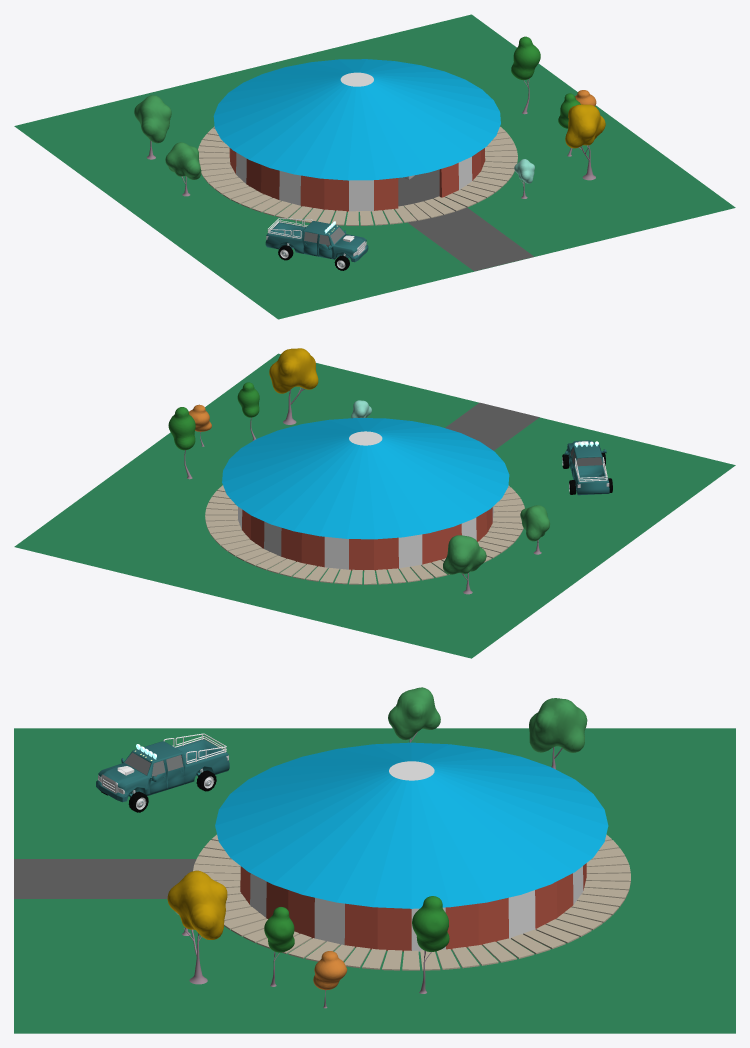
The model's file is kitchen.fbx_Scene.fbx.
The picture shows the model from 3 angles, top to bottom: view 1: azimuth 30°, elevation 25°; view 2: azimuth 150°, elevation 25°; view 3: azimuth 270°, elevation 25°; orthographic projection. The views are drawn at different scales.
Parts seen in each view (by area): view 1: ground, room, Plane_round, Plane.001, car, Wood_1_43.001, Wood_1_243, room_floor, Wood_1_243.001, tree01.001; view 2: ground, room, Plane_round, Plane.001, car, Wood_1_43.001, Wood_1_243, tree01.001, Wood_1_243.001, tree01; view 3: ground, room, Plane_round, Plane.001, car, Wood_1_43.001, Wood_1_243, Wood_1_243.001, tree01.001, tree01, Wood_1_43.
Boxes of the visible parts, x1,y1,x2,y2 form: ground: [14, 14, 735, 319]; room: [213, 59, 500, 211]; Plane_round: [198, 126, 517, 225]; Plane.001: [407, 205, 533, 271]; car: [265, 218, 368, 270]; Wood_1_43.001: [565, 104, 605, 180]; Wood_1_243: [134, 95, 171, 159]; room_floor: [398, 169, 439, 206]; Wood_1_243.001: [165, 142, 201, 196]; tree01.001: [511, 36, 540, 114]; ground: [14, 353, 735, 658]; room: [222, 418, 509, 570]; Plane_round: [205, 485, 524, 584]; Plane.001: [445, 402, 539, 450]; car: [562, 440, 612, 495]; Wood_1_43.001: [269, 348, 318, 424]; Wood_1_243: [443, 535, 486, 594]; tree01.001: [168, 407, 195, 479]; Wood_1_243.001: [520, 505, 549, 554]; tree01: [237, 382, 259, 440]; ground: [14, 728, 735, 1033]; room: [215, 742, 608, 951]; Plane_round: [193, 834, 630, 970]; Plane.001: [14, 859, 196, 898]; car: [96, 733, 229, 812]; Wood_1_43.001: [167, 870, 227, 984]; Wood_1_243: [529, 698, 587, 769]; Wood_1_243.001: [388, 687, 440, 742]; tree01.001: [412, 896, 449, 993]; tree01: [264, 907, 294, 986]; Wood_1_43: [313, 951, 347, 1008].
Bounding box in the file's own units: 3029 × 500 × 3029.
